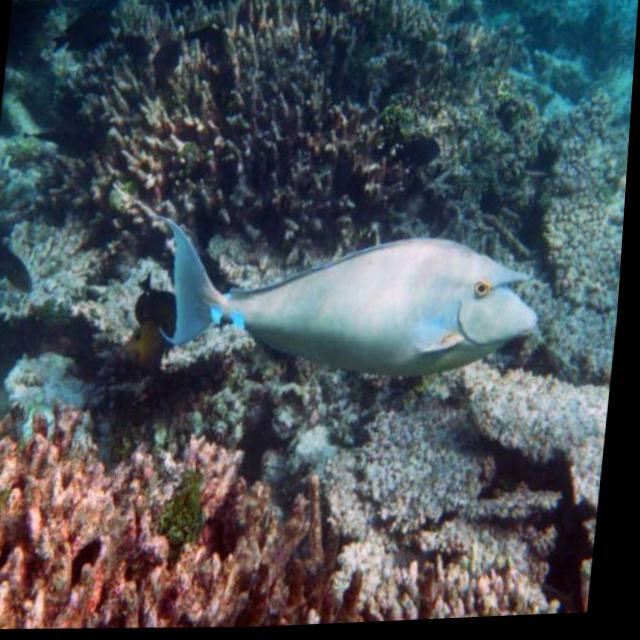Dead Coral: (65, 0, 429, 264)
